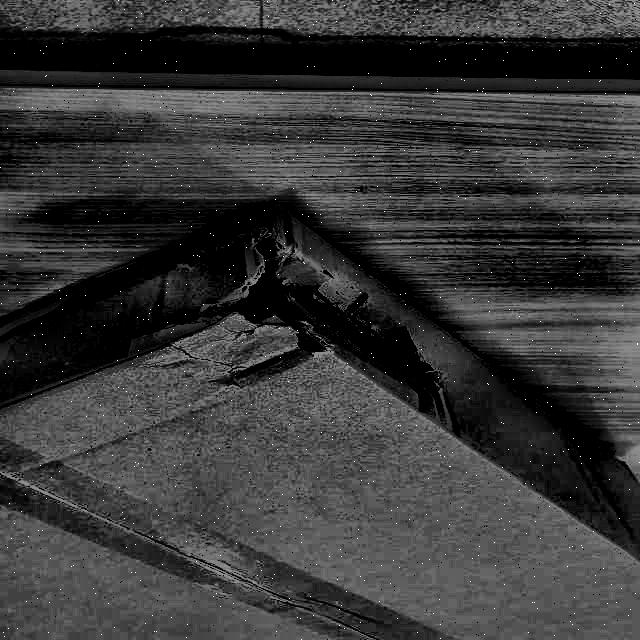box: (1, 190, 640, 640)
hole: (228, 223, 442, 400)
